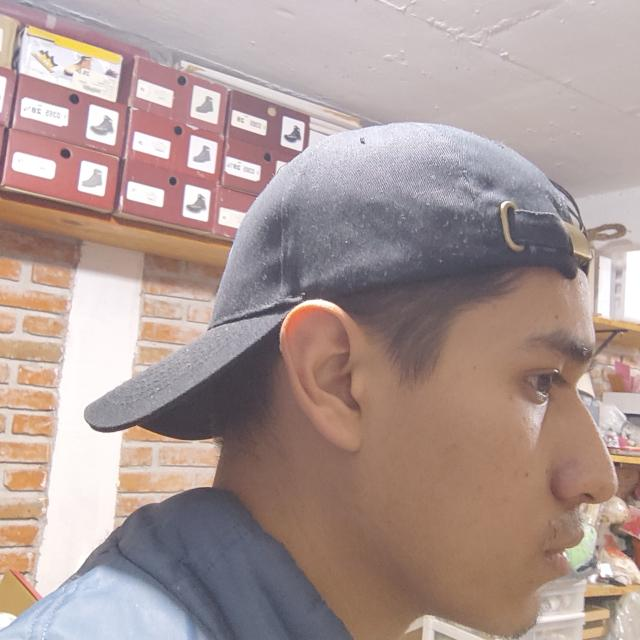ear: (280, 300, 372, 452)
